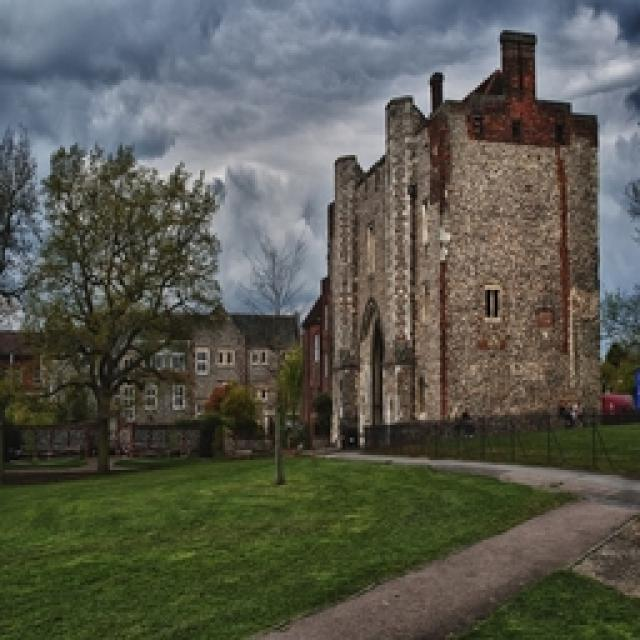Abbey: (319, 26, 609, 451)
